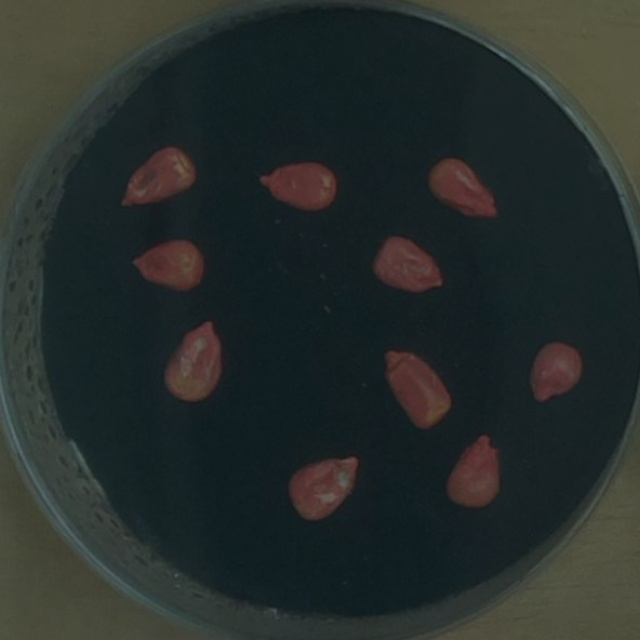Zea mays: (374, 341, 460, 437), (154, 313, 230, 409), (112, 139, 204, 218), (279, 448, 365, 529), (420, 151, 506, 229), (438, 424, 510, 514), (363, 228, 450, 300), (123, 232, 212, 300), (251, 154, 344, 219), (522, 335, 590, 414)
